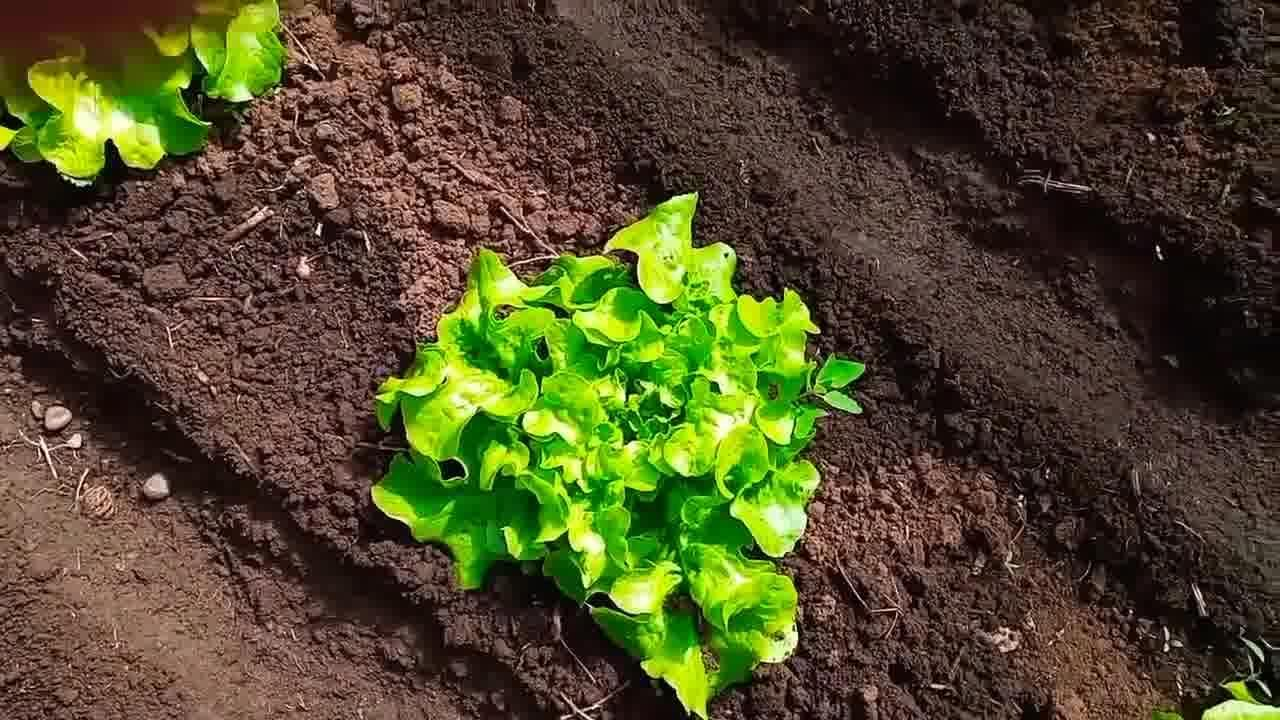Healthy: (364, 190, 875, 720), (1, 4, 294, 187)
